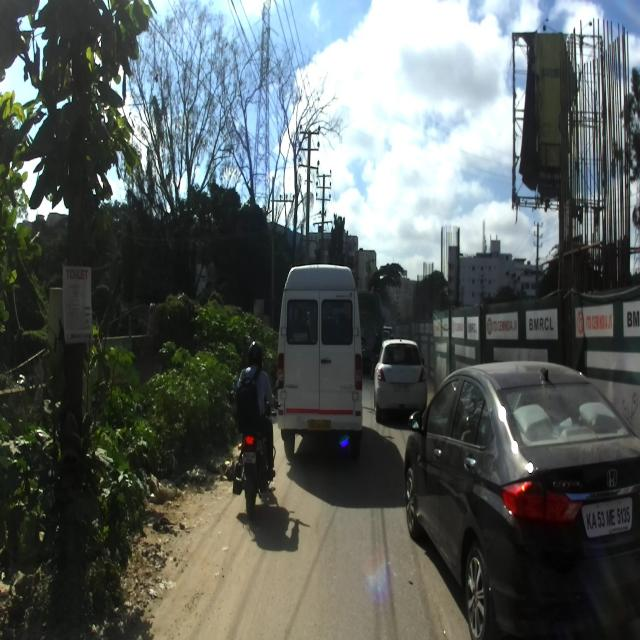Car_Honda: (402, 358, 640, 639)
Car_Maruti-Suzuki: (371, 330, 427, 422)
mini-bus: (278, 260, 364, 463)
motorcycle: (232, 378, 281, 516)
